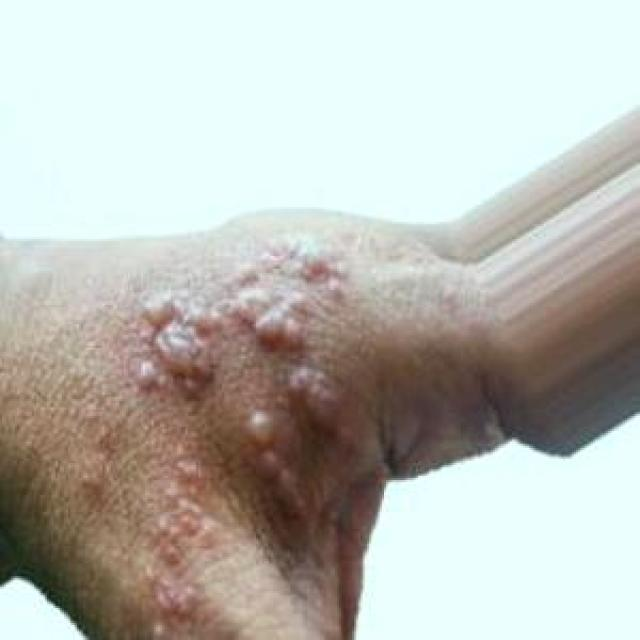Shingles: (122, 234, 342, 403), (140, 444, 224, 640), (242, 402, 307, 525), (286, 362, 359, 449)
